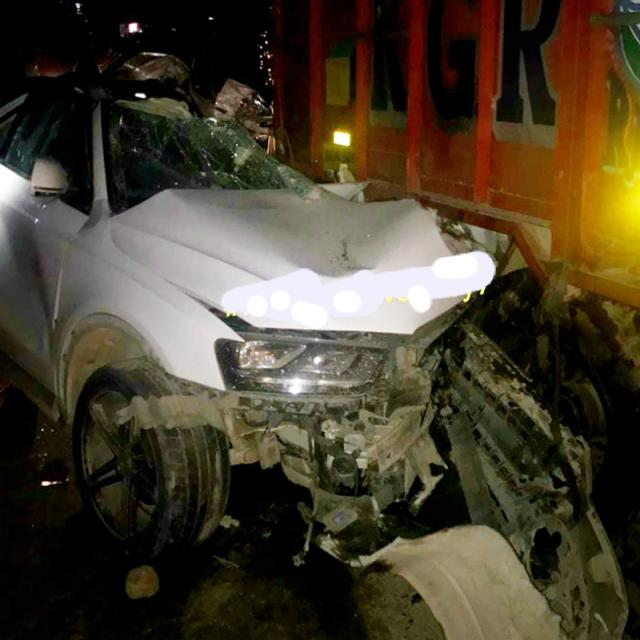crush: (71, 52, 630, 640)
